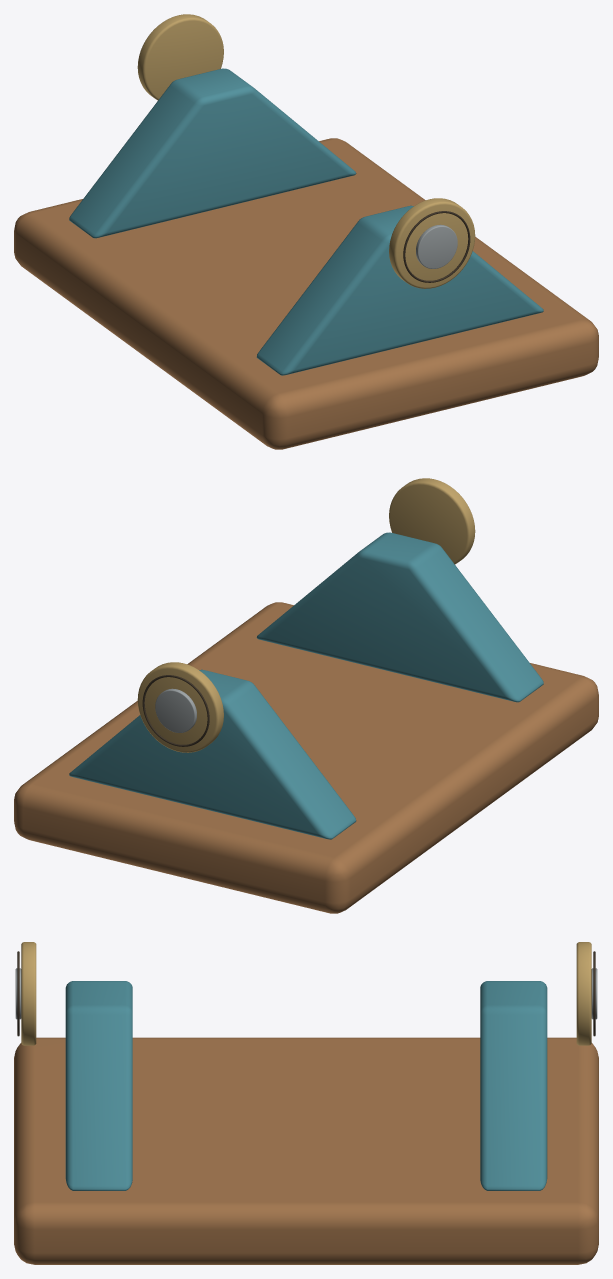
Rendered from seesaw_base.glb.
3 renders of one model, top to bottom at view 1: azimuth 30°, elevation 25°; view 2: azimuth 150°, elevation 25°; view 3: azimuth 270°, elevation 25°, orthographic. The views are drawn at different scales.
Visible parts, largest first — view 1: V15_HoneyOak.001, V15_BluePaint.001, V15_BrushedBrass.001, V15_BearingSteel.001, V15_EngravedRecess.001; view 2: V15_HoneyOak.001, V15_BluePaint.001, V15_BrushedBrass.001, V15_BearingSteel.001, V15_EngravedRecess.001; view 3: V15_HoneyOak.001, V15_BluePaint.001, V15_BrushedBrass.001, V15_BearingSteel.001, V15_EngravedRecess.001.
Boxes of the visible parts, left/top/right/bottom form: V15_HoneyOak.001: left=14, top=138, right=598, bottom=449; V15_BluePaint.001: left=69, top=68, right=543, bottom=375; V15_BrushedBrass.001: left=137, top=14, right=475, bottom=288; V15_BearingSteel.001: left=416, top=224, right=457, bottom=268; V15_EngravedRecess.001: left=403, top=211, right=470, bottom=282; V15_HoneyOak.001: left=14, top=602, right=598, bottom=913; V15_BluePaint.001: left=69, top=532, right=543, bottom=839; V15_BrushedBrass.001: left=137, top=478, right=475, bottom=752; V15_BearingSteel.001: left=155, top=688, right=196, bottom=732; V15_EngravedRecess.001: left=142, top=675, right=209, bottom=746; V15_HoneyOak.001: left=14, top=1037, right=598, bottom=1264; V15_BluePaint.001: left=65, top=981, right=547, bottom=1190; V15_BrushedBrass.001: left=21, top=942, right=591, bottom=1045; V15_BearingSteel.001: left=15, top=968, right=597, bottom=1019; V15_EngravedRecess.001: left=17, top=951, right=595, bottom=1036.
Bounding box in the file's own units: 0.7 × 0.425 × 0.96.
